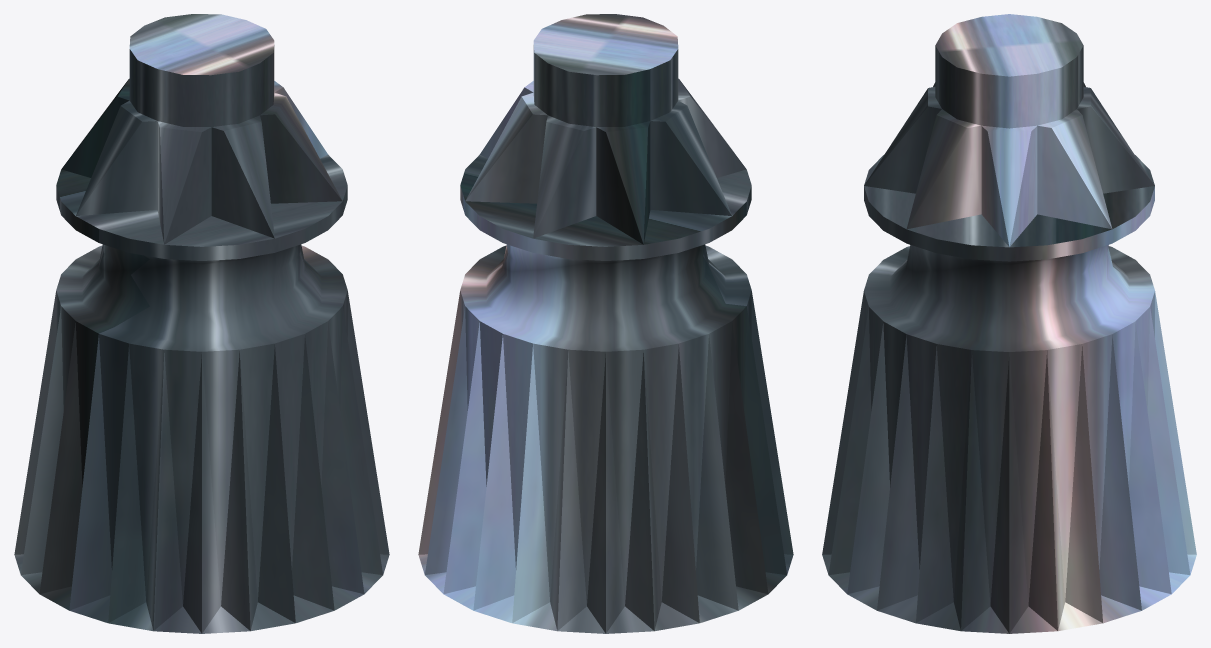
Rendered from PegPlasticT22.fbx.
The picture shows the model from 3 angles, left to right: view 1: azimuth 30°, elevation 25°; view 2: azimuth 150°, elevation 25°; view 3: azimuth 270°, elevation 25°; orthographic projection.
Visible parts, largest first — view 1: PegPlasticT22; view 2: PegPlasticT22; view 3: PegPlasticT22.
Boxes of the visible parts, left/top/right/bottom form: PegPlasticT22: left=14, top=14, right=389, bottom=633; PegPlasticT22: left=418, top=14, right=793, bottom=633; PegPlasticT22: left=822, top=14, right=1196, bottom=633.
Size of the model in its own units: 1.85 by 2.77 by 1.85.
1 material, 1 textured.
